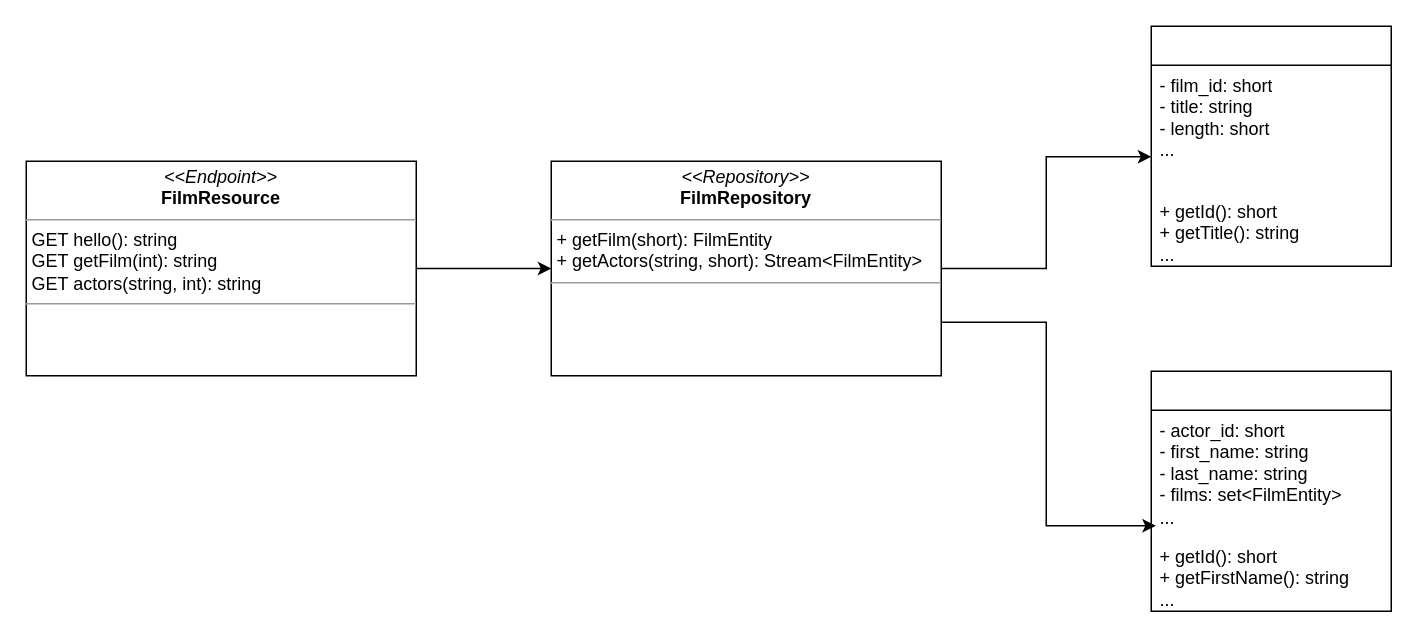
This 1418x642 diagram has some shape labels left out. The shapes that lost their labels are listed below. From the top down, each one's box as (x1, y1, x2, y2) in pixels, then its label:
(1150, 25, 1391, 266): FilmEntity
(1150, 370, 1391, 611): ActorEntity
